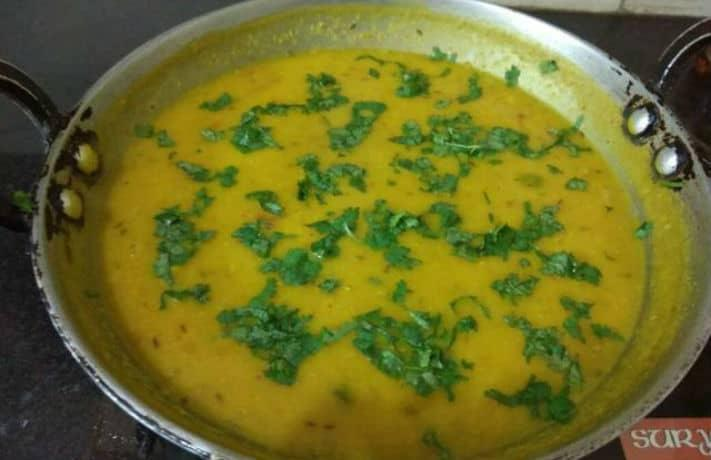dal: (106, 42, 646, 458)
